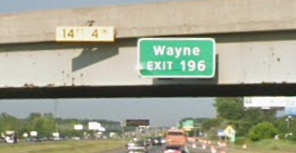1: (60, 26, 67, 40)
4: (89, 27, 99, 40), (66, 27, 75, 40)
overheadsign: (54, 24, 114, 43)
